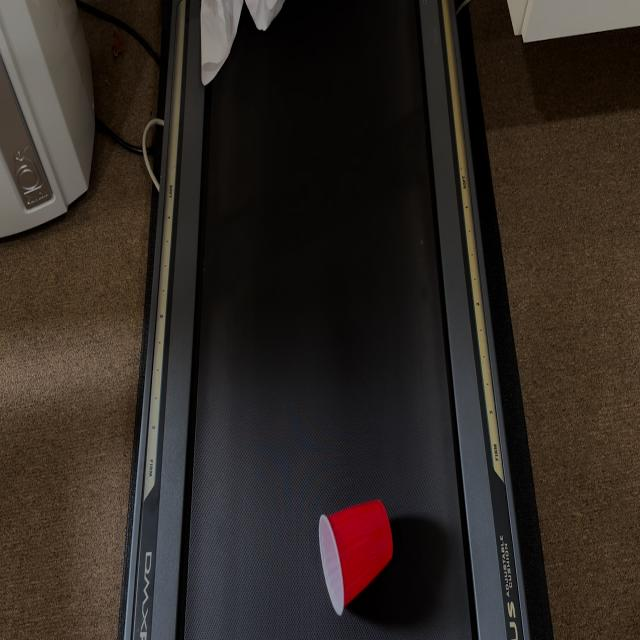Recycle: (318, 497, 395, 618), (198, 0, 288, 89)
